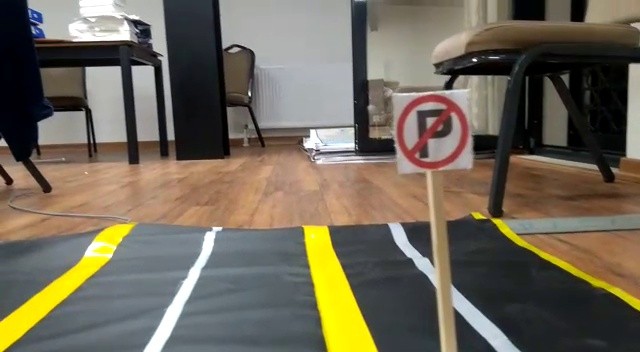park_yapilmaz: (388, 89, 473, 169)
